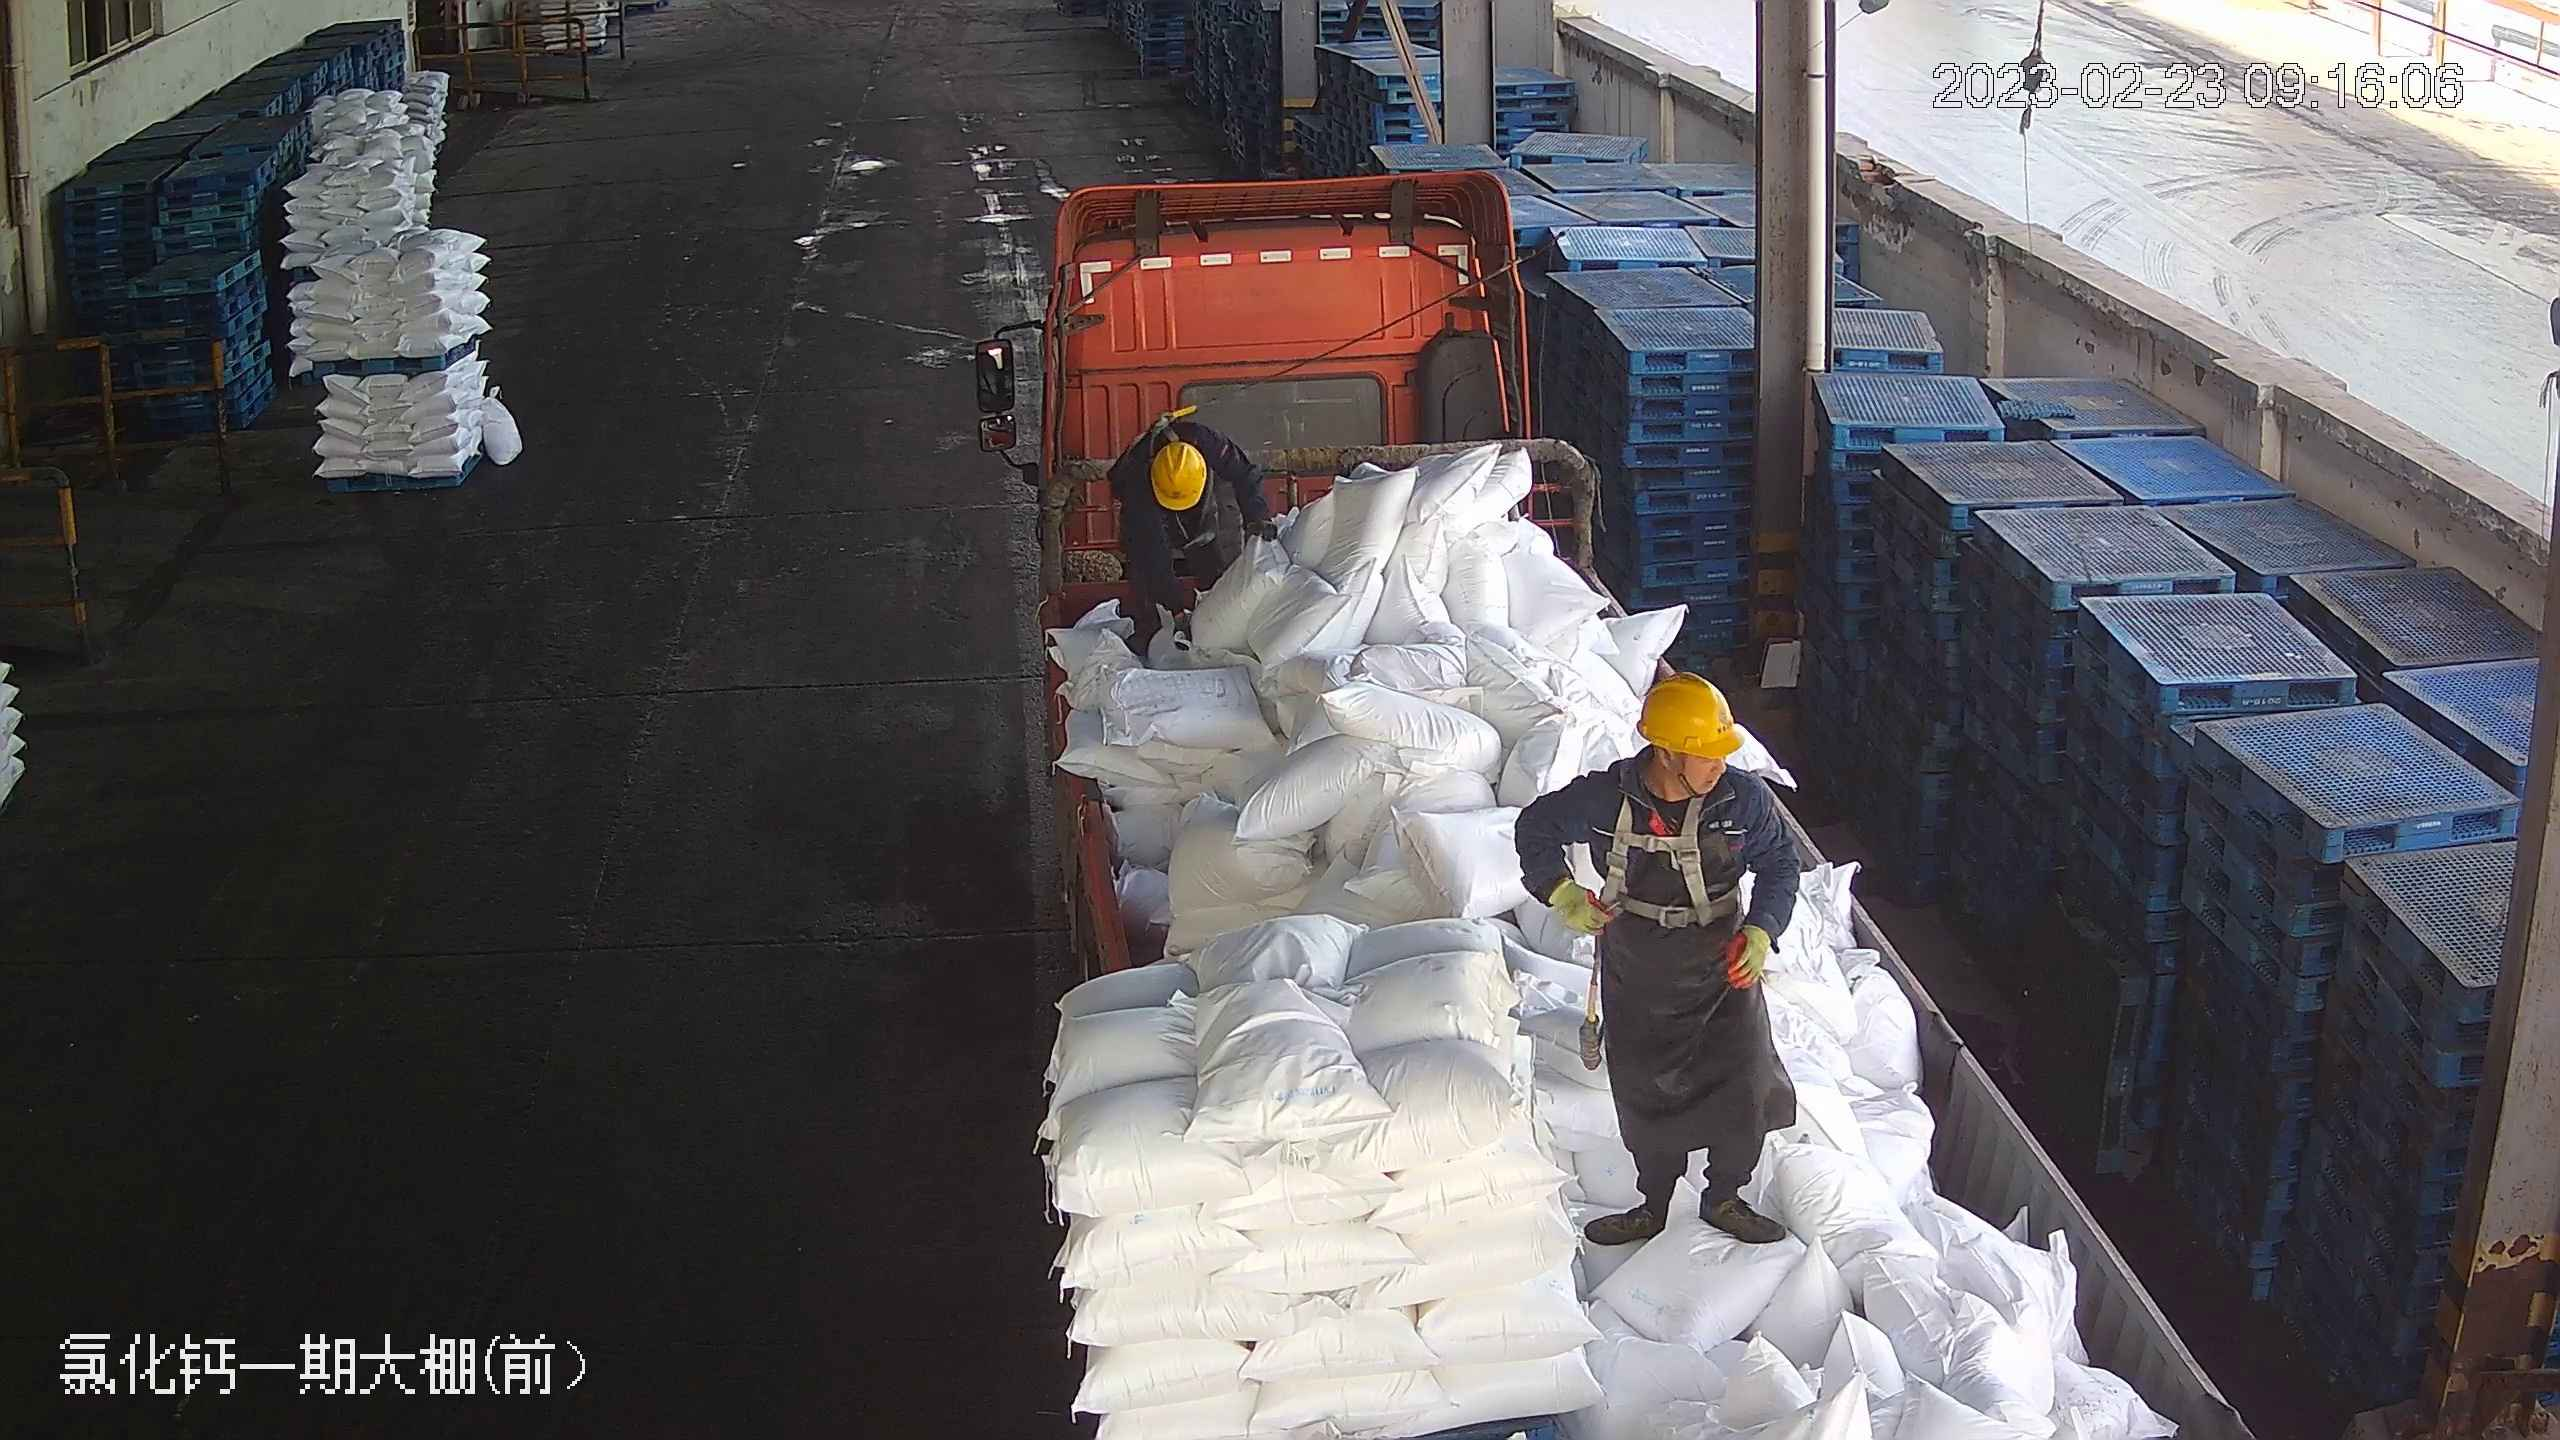belt: (1607, 780, 1745, 929), (1149, 393, 1226, 456)
head: (1571, 668, 1775, 868), (1123, 417, 1256, 521)
helmet: (1634, 669, 1746, 755), (1147, 431, 1212, 510)
people: (1521, 681, 1801, 1258), (1102, 410, 1281, 666)
truck: (983, 137, 2276, 1440)
